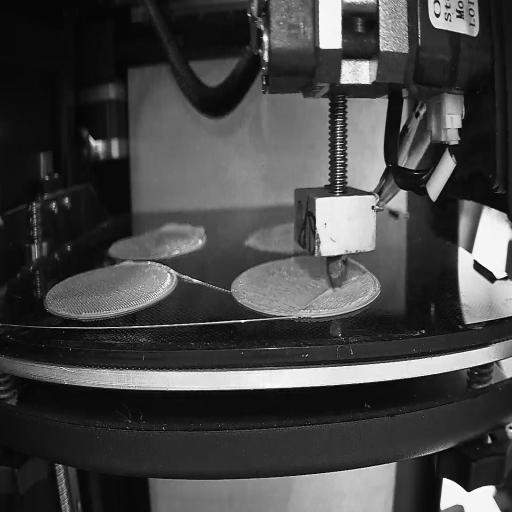over_extrusion: (158, 217, 210, 239), (115, 255, 135, 268), (310, 289, 334, 298)
